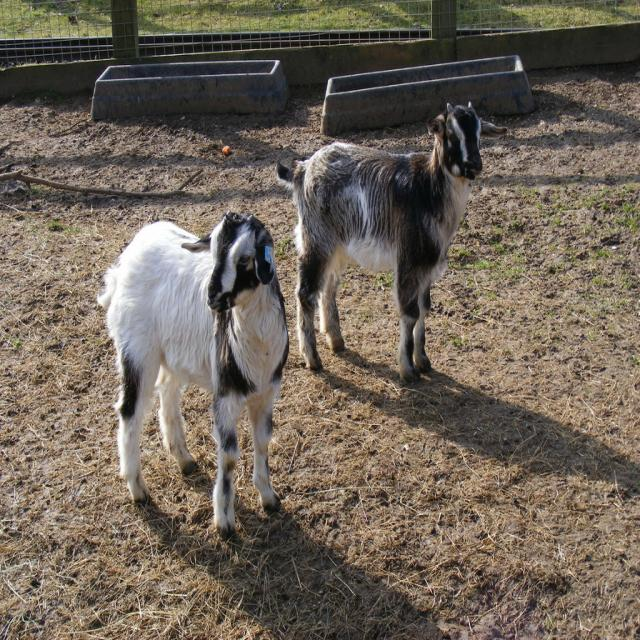Goat: (278, 91, 502, 395), (96, 205, 293, 542)
